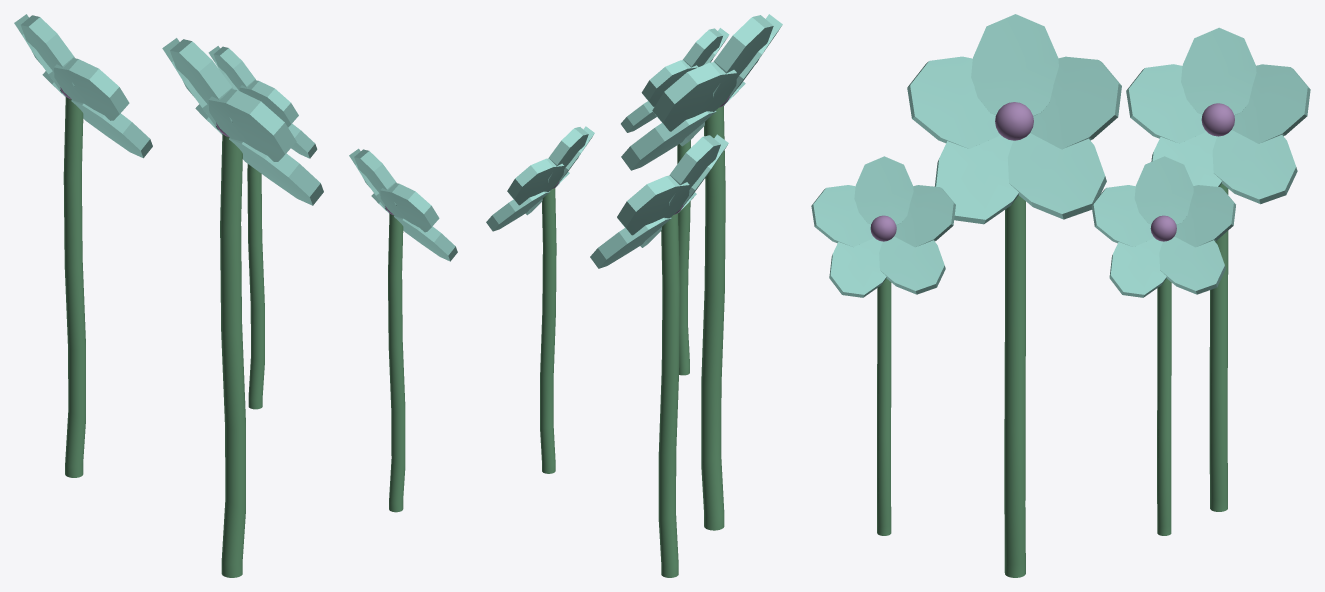
Rendered from Flowers 3.fbx.
3 renders of one model, left to right at view 1: azimuth 30°, elevation 25°; view 2: azimuth 150°, elevation 25°; view 3: azimuth 270°, elevation 25°, orthographic. The views are drawn at different scales.
Parts seen in each view (by area): view 1: pSphere9; view 2: pSphere9; view 3: pSphere9.
Part boxes in pixels (x1=…): pSphere9: x1=14, y1=14, x2=457, y2=577; pSphere9: x1=486, y1=14, x2=782, y2=577; pSphere9: x1=811, y1=14, x2=1310, y2=577.
Bounding box in the file's own units: 2.71 × 5.8 × 4.86.
